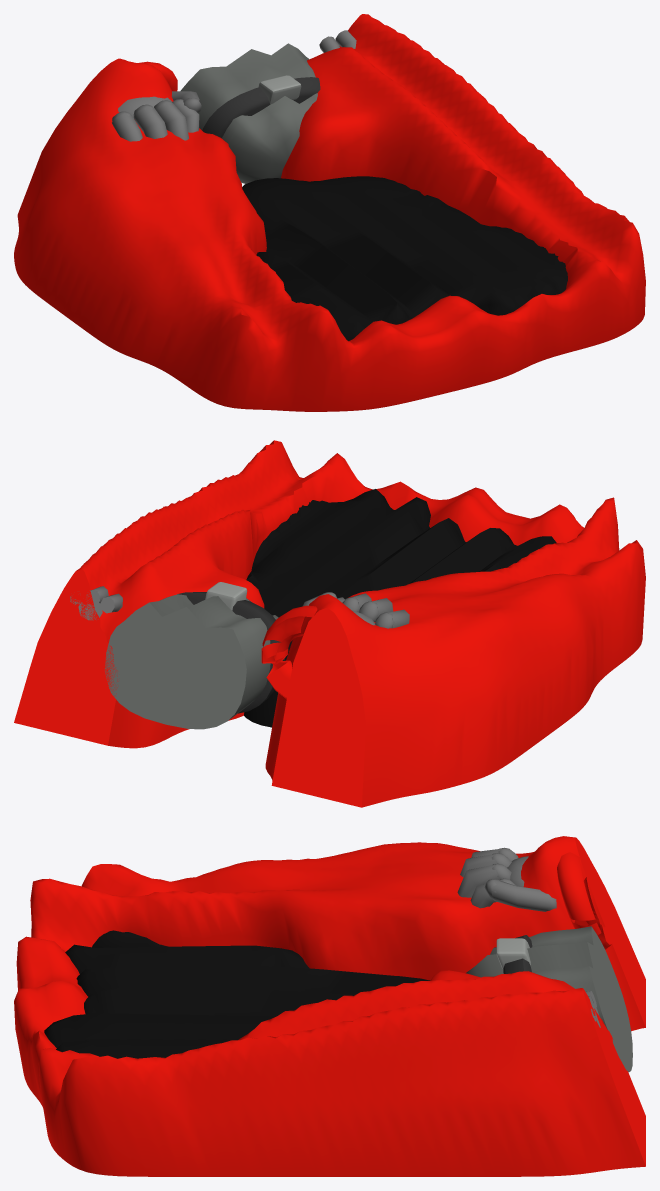
The model's file is hooded_bottom.glb.
3 views of the same model, one above another, from view 1: azimuth 30°, elevation 25°; view 2: azimuth 150°, elevation 25°; view 3: azimuth 270°, elevation 25° (orthographic). The views are drawn at different scales.
Parts seen in each view (by area): view 1: hooded_bottom; view 2: hooded_bottom; view 3: hooded_bottom.
Part boxes in pixels (<box>): hooded_bottom: <box>14,14,645,411</box>; hooded_bottom: <box>14,440,645,807</box>; hooded_bottom: <box>14,836,645,1176</box>.
Bounding box in the file's own units: 23 × 8.19 × 26.37.
